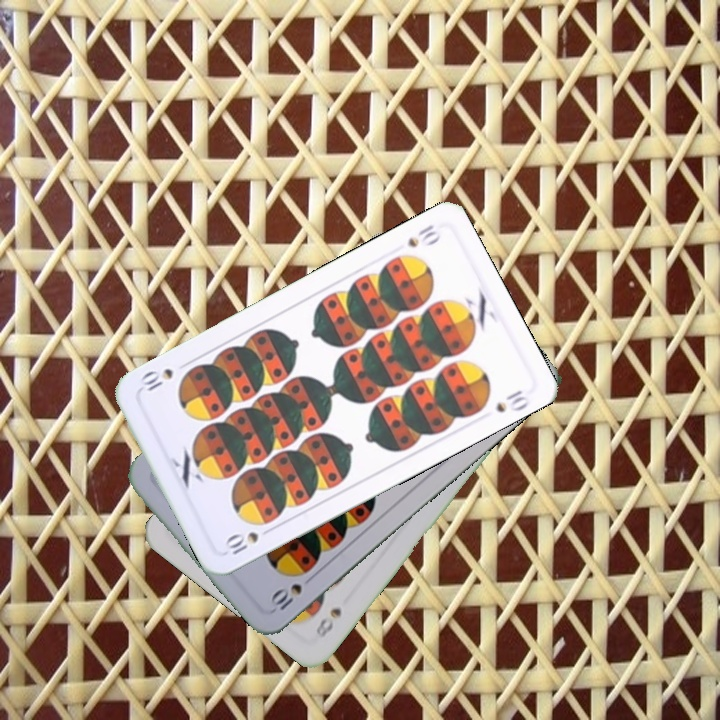S10: (266, 570, 318, 614), (221, 523, 277, 558), (403, 220, 444, 250)
S8: (311, 603, 345, 641)
